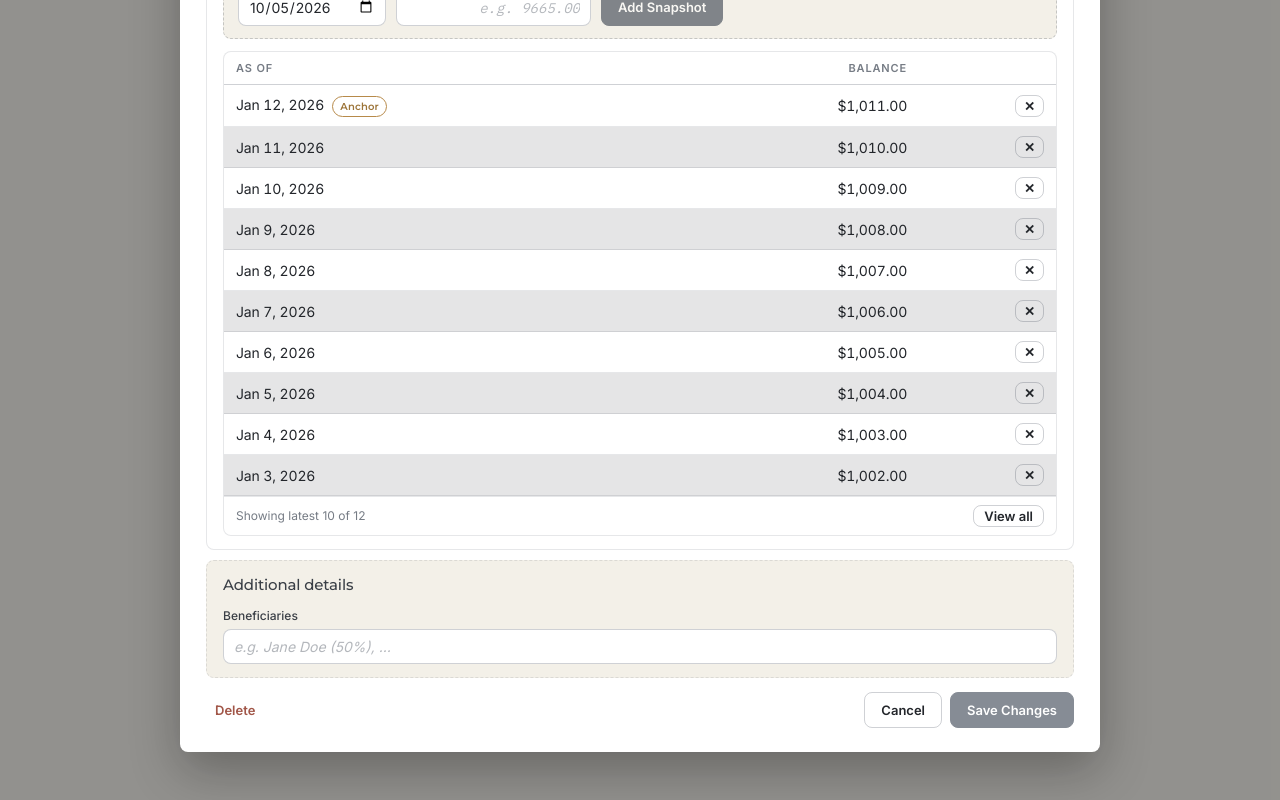
Test: AccountEditor › shows a "View all" snapshot modal when there are many snapshots
(page scrolled)
Expected: the text "Showing latest 10 of 12" is shown, [236,507,366,525]
Click the button "View all".
click(1009, 516)  # box [973,505,1044,527]
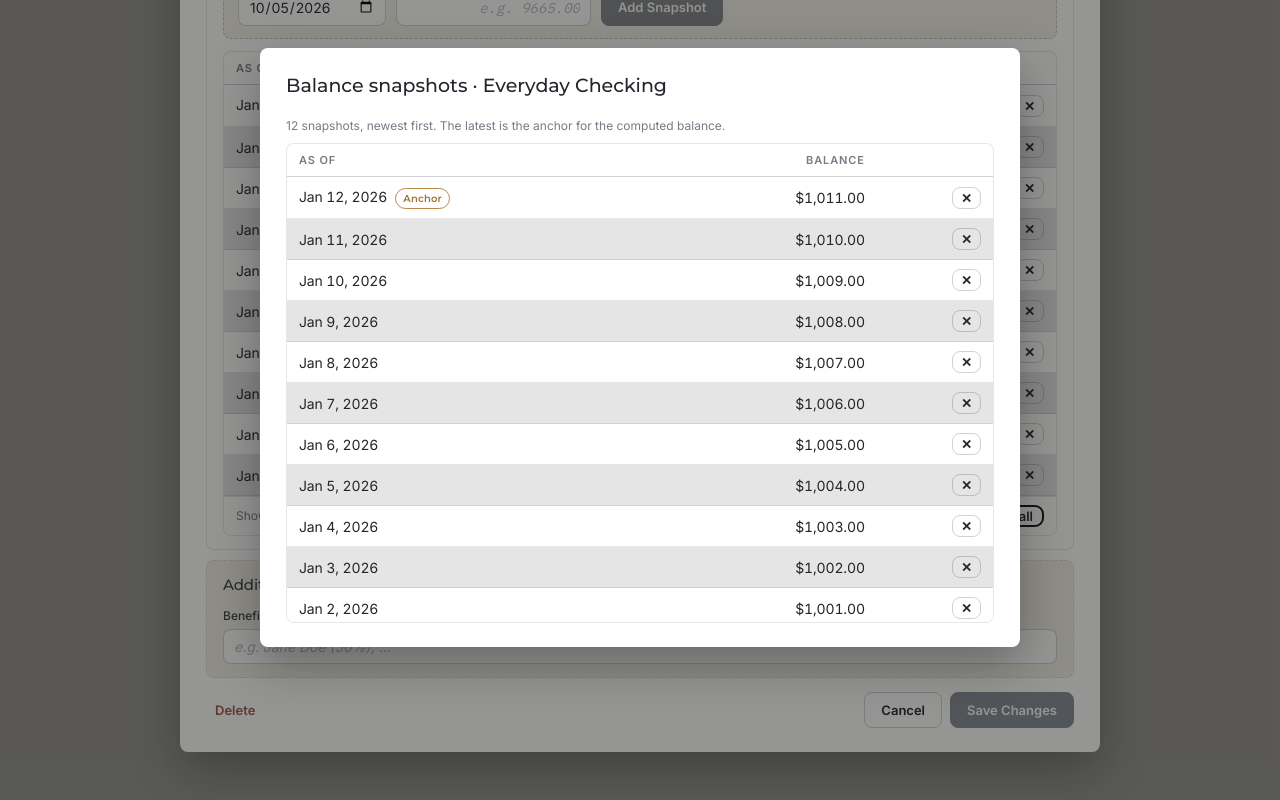
Now the heading "Balance snapshots · Everyday Checking" is shown, box [286,72,667,100]
